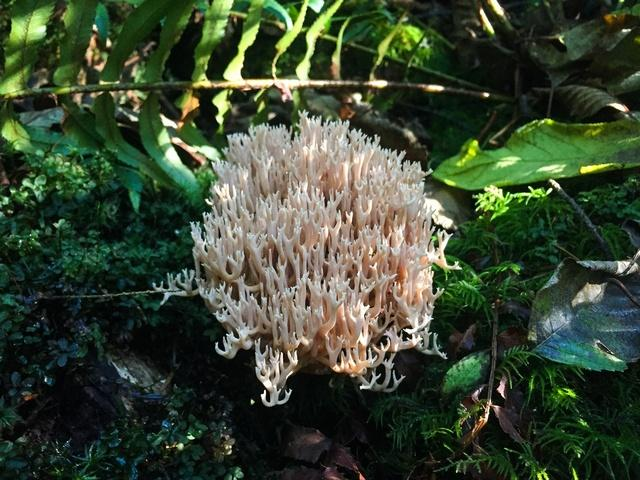edible_mushroom: (154, 108, 460, 407)
